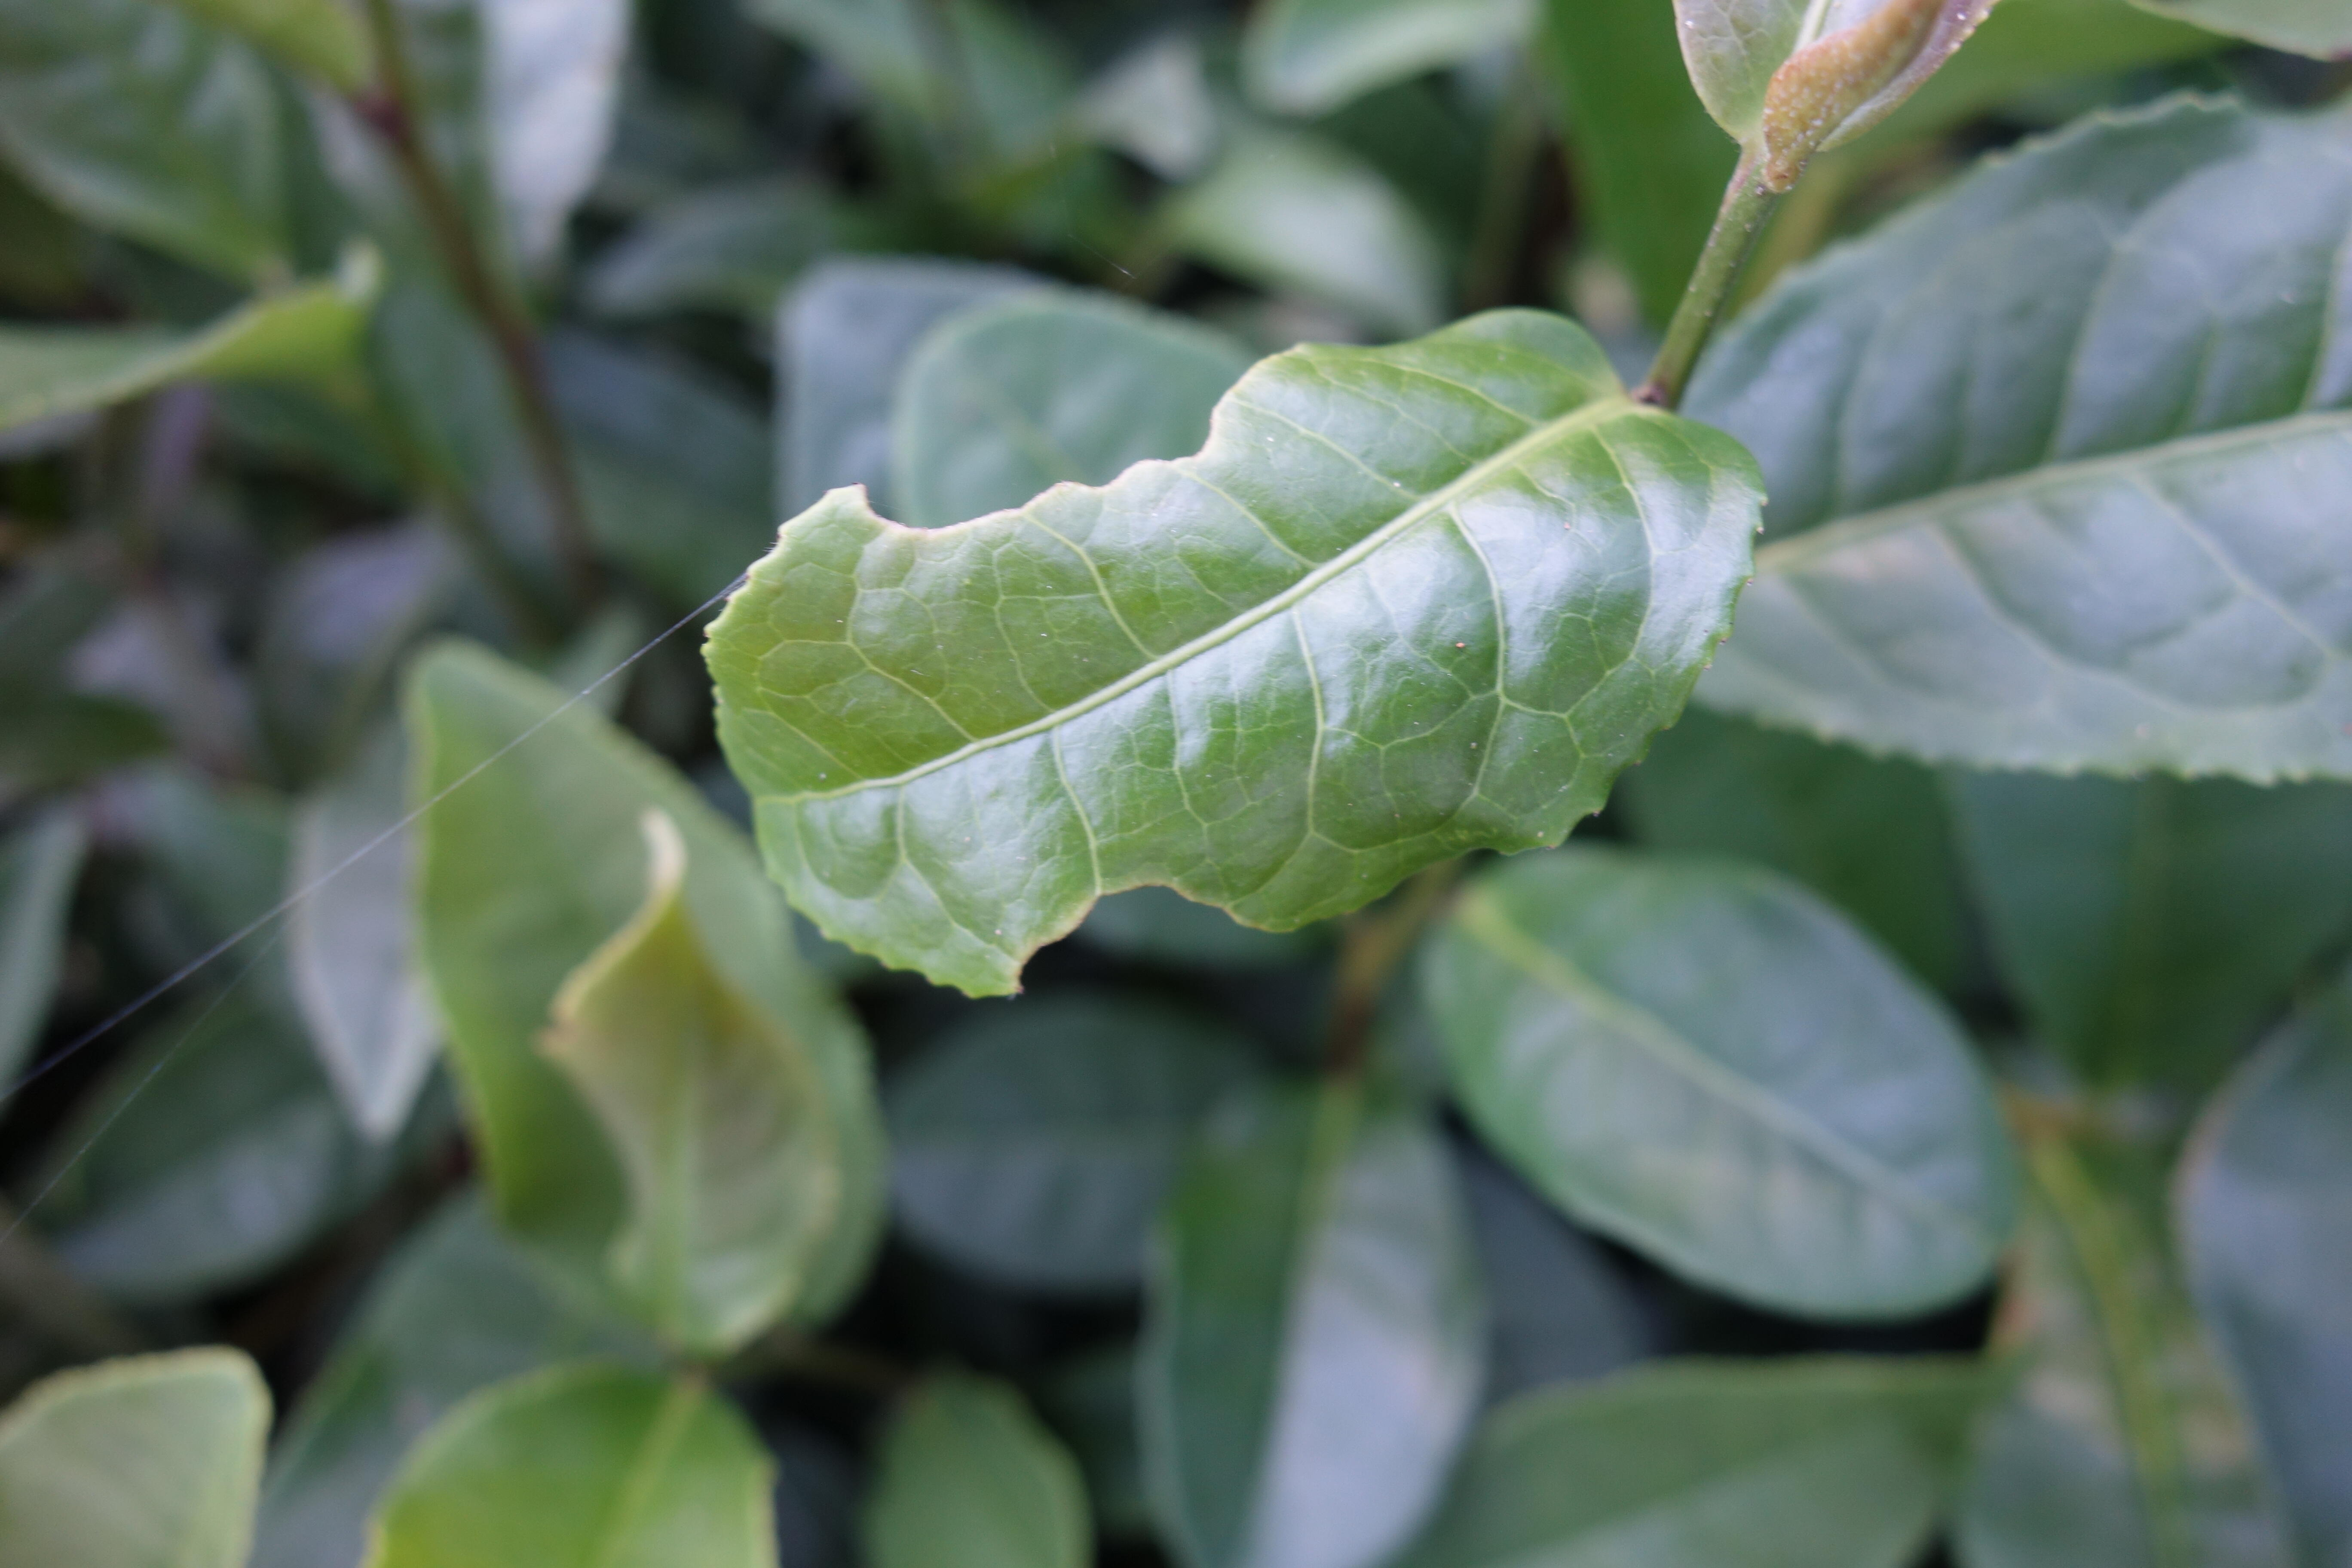chihuo_high: (700, 304, 1771, 1001)
